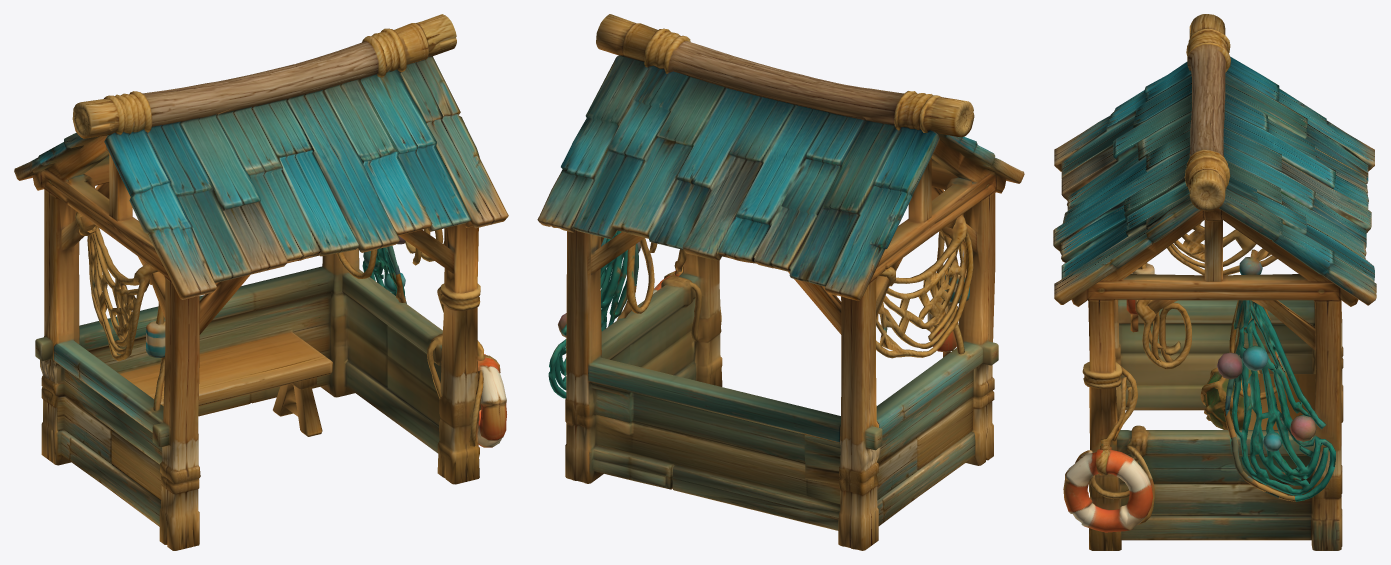
File: fisherman's_shelter.glb
The picture shows the model from 3 angles, left to right: view 1: azimuth 30°, elevation 25°; view 2: azimuth 150°, elevation 25°; view 3: azimuth 270°, elevation 25°; orthographic projection. The views are drawn at different scales.
Parts seen in each view (by area): view 1: tripo_node_89adcebf-a9bc-4955-bfa2-4cd1ab72a256; view 2: tripo_node_89adcebf-a9bc-4955-bfa2-4cd1ab72a256; view 3: tripo_node_89adcebf-a9bc-4955-bfa2-4cd1ab72a256.
Part boxes in pixels (left/top/right/bottom): tripo_node_89adcebf-a9bc-4955-bfa2-4cd1ab72a256: left=14, top=14, right=508, bottom=550; tripo_node_89adcebf-a9bc-4955-bfa2-4cd1ab72a256: left=537, top=14, right=1024, bottom=550; tripo_node_89adcebf-a9bc-4955-bfa2-4cd1ab72a256: left=1053, top=14, right=1376, bottom=550.
Size of the model in its own units: 0.9162 by 0.9774 by 0.7441.
1 material, 1 textured.
